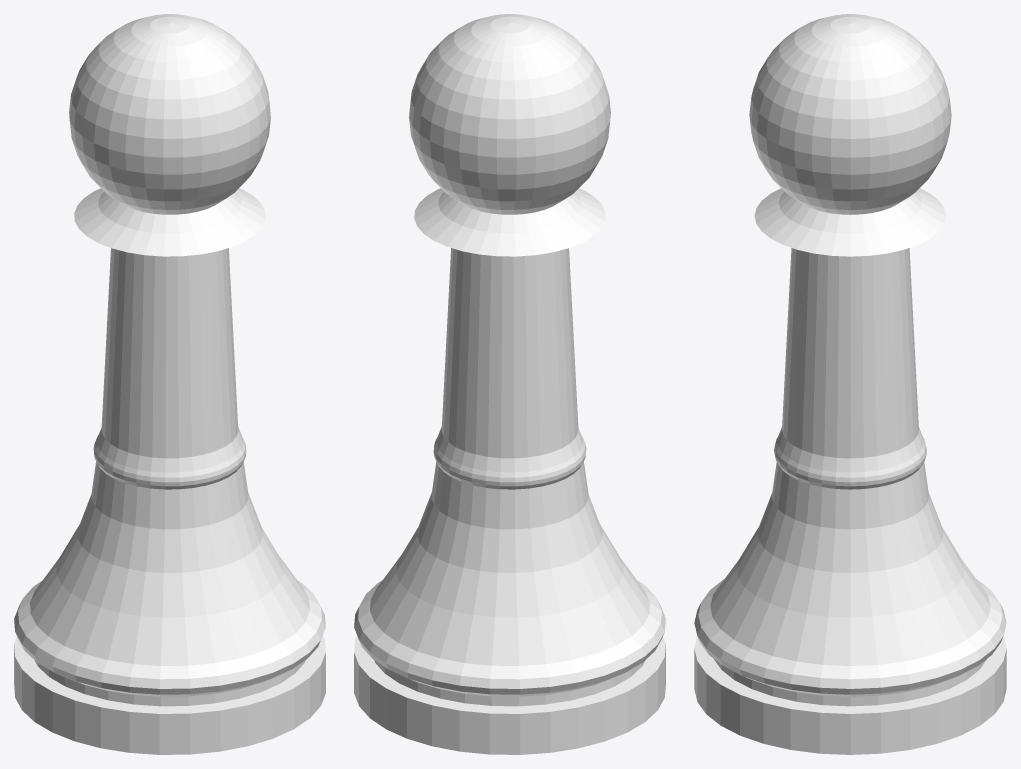
The model's file is pawn.obj.
3 renders of one model, left to right at view 1: azimuth 30°, elevation 25°; view 2: azimuth 150°, elevation 25°; view 3: azimuth 270°, elevation 25°, orthographic.
Visible parts, largest first — view 1: pawn; view 2: pawn; view 3: pawn.
Part boxes in pixels (box(x1,y1,x2,y2)): pawn: box(14, 14, 325, 754); pawn: box(354, 14, 665, 754); pawn: box(694, 14, 1006, 754).
Size of the model in its own units: 2 by 4.7 by 2.
Materials: 1 (1 with a texture image).
